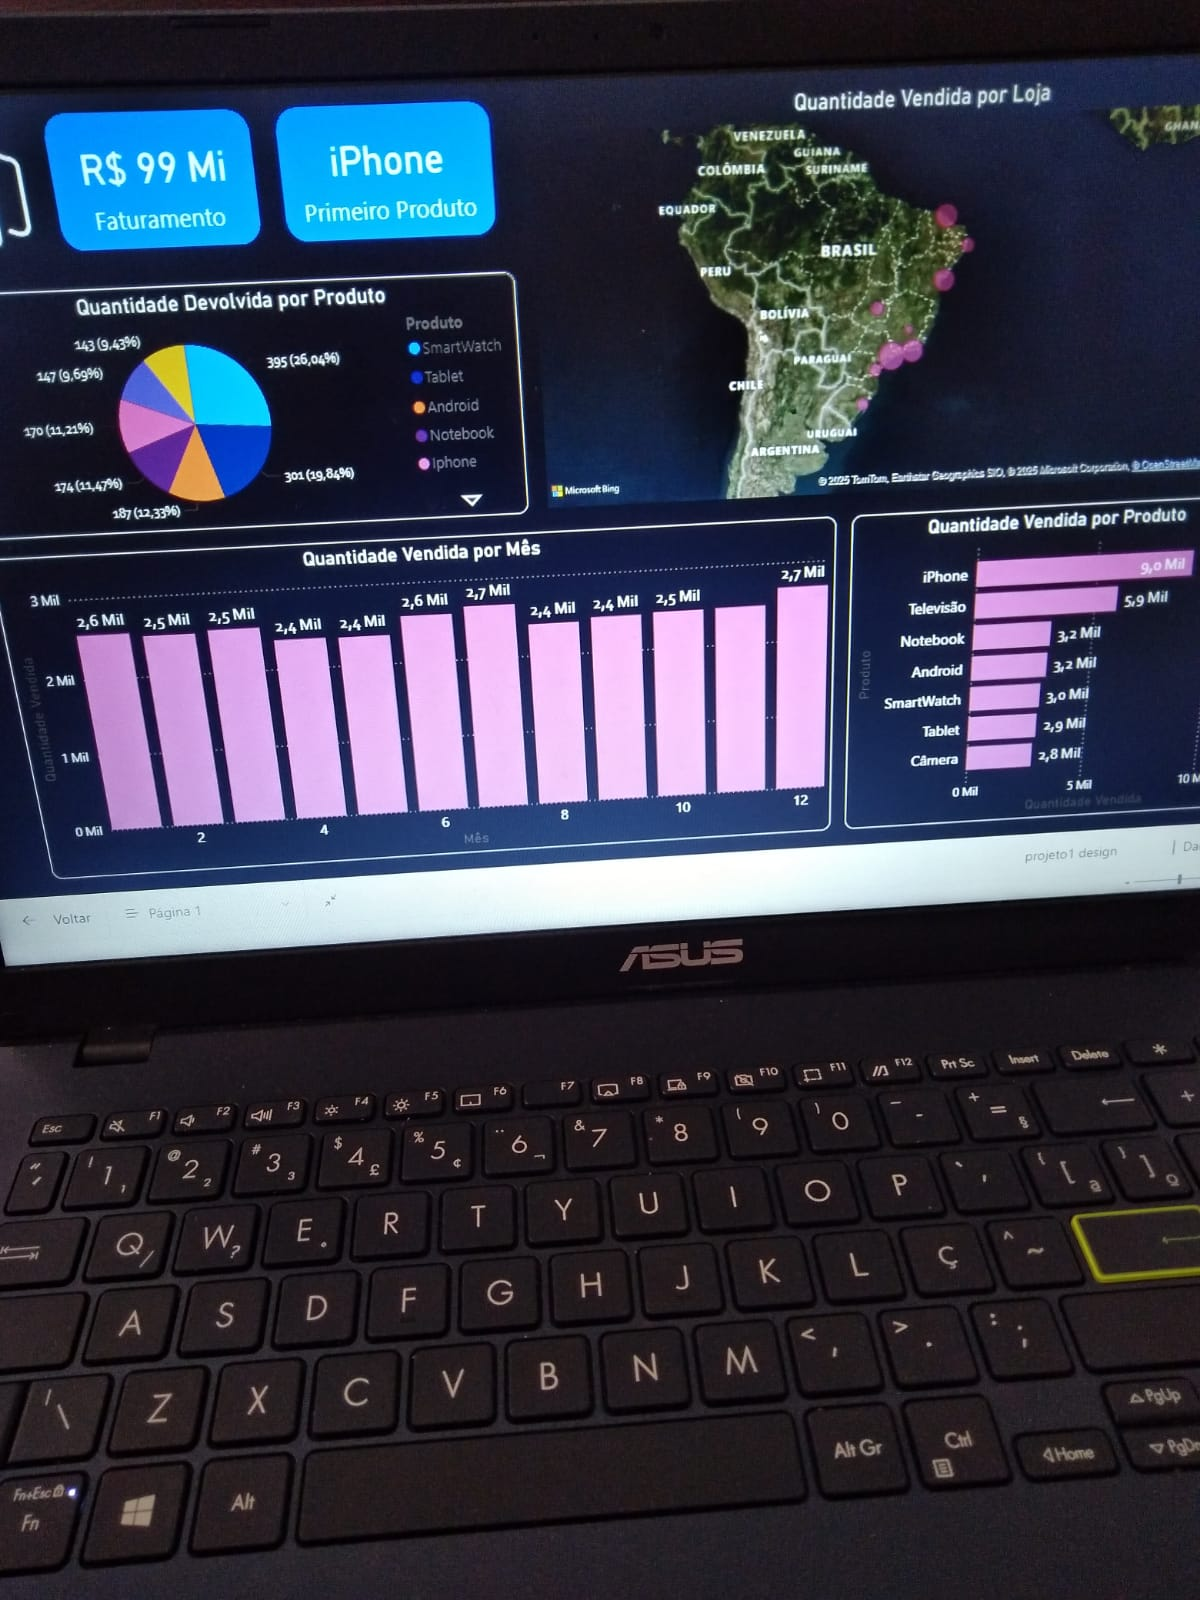

What the dashboard file says about the page in this screenshot:
{"tool":"powerbi","page":{"name":"Página 1","canvas":[1280,720],"ordinal":0},"visuals":[{"type":"barChart","fields":{"Y":["Sum(Vendas.Quantidade Vendida)"],"Category":["Vendas.Produto"]},"box":[835.8,378.3,406.2,322.6],"z":0},{"type":"card","fields":{"Values":["Sum(Vendas.Faturamento)"]},"box":[132,13.2,173,107],"z":1000},{"type":"card","fields":{"Values":["Min(Vendas.Produto)"]},"box":[325.5,13.2,184.8,107],"z":2000},{"type":"columnChart","fields":{"Category":["Vendas.Mês"],"Y":["Sum(Vendas.Quantidade Vendida)"]},"box":[16.1,378.3,803.6,322.6],"z":3000},{"type":"pieChart","fields":{"Y":["Sum(Devolucoes.Quantidade Devolvida)"],"Category":["Devolucoes.Produto"]},"box":[16.1,149.6,507.4,211.2],"z":4000},{"type":"map","fields":{"Size":["Sum(Vendas.Quantidade Vendida)"],"Category":["Vendas.Loja"]},"box":[536.7,13.2,705.3,347.5],"z":5000},{"type":"image","box":[16.1,13.2,99.7,112.9],"z":6000}]}

Visuals, with their boxes on the page's 1280x720 design canvas (x1, y1, x2, y2). These are canvas units, not pixel positions in the 1200x1600 screenshot, which may show the page scaled, cropped or inside an application window:
barChart - Sum(Vendas.Quantidade Vendida) x Vendas.Produto: bbox(836, 378, 1242, 701)
card - Sum(Vendas.Faturamento): bbox(132, 13, 305, 120)
card - Min(Vendas.Produto): bbox(326, 13, 510, 120)
columnChart - Vendas.Mês x Sum(Vendas.Quantidade Vendida): bbox(16, 378, 820, 701)
pieChart - Sum(Devolucoes.Quantidade Devolvida) x Devolucoes.Produto: bbox(16, 150, 524, 361)
map - Sum(Vendas.Quantidade Vendida) x Vendas.Loja: bbox(537, 13, 1242, 361)
image: bbox(16, 13, 116, 126)
